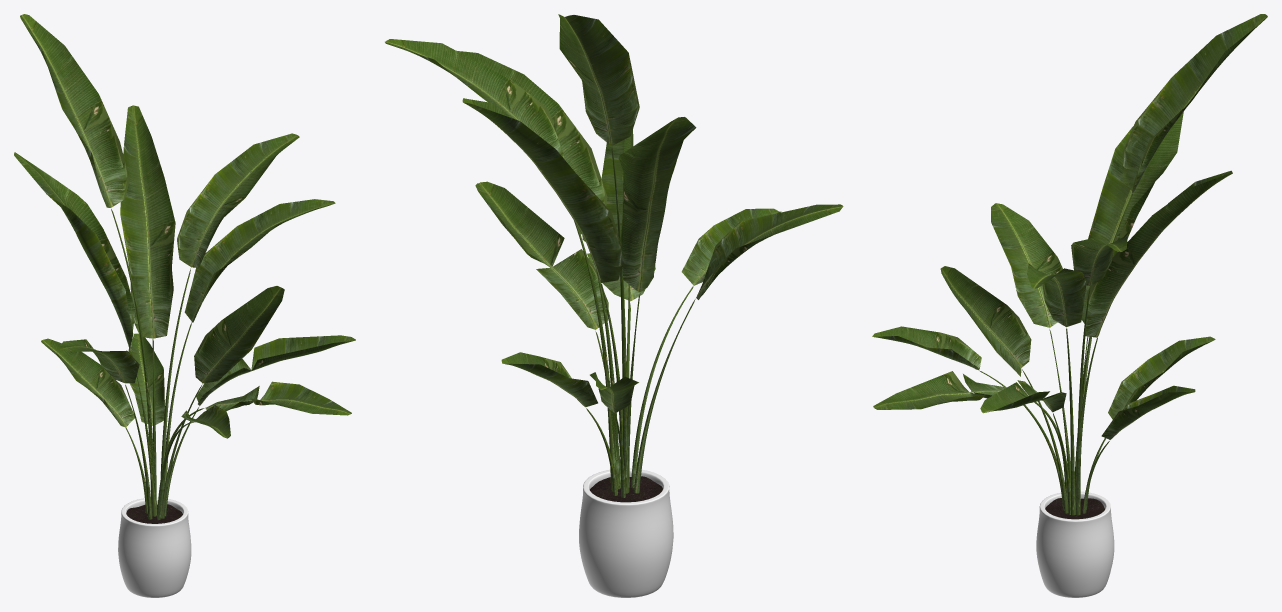
Rendered from potted_palm-scene-512.glb.
The picture shows the model from 3 angles, left to right: view 1: azimuth 30°, elevation 25°; view 2: azimuth 150°, elevation 25°; view 3: azimuth 270°, elevation 25°; orthographic projection. The views are drawn at different scales.
Parts seen in each view (by area): view 1: ID35, ID4, ID17; view 2: ID35, ID4, ID17; view 3: ID35, ID4, ID17.
Part boxes in pixels (box(x1,y1,x2,y2)): ID35: box(14, 14, 355, 519); ID4: box(118, 497, 191, 597); ID17: box(126, 504, 182, 523); ID35: box(385, 14, 843, 497); ID4: box(579, 468, 673, 597); ID17: box(589, 476, 662, 502); ID35: box(872, 14, 1267, 515); ID4: box(1036, 491, 1114, 597); ID17: box(1045, 498, 1104, 519).
Size of the model in its own units: 0.8941 by 1.49 by 0.9733.
Materials: 4 (3 with a texture image).
